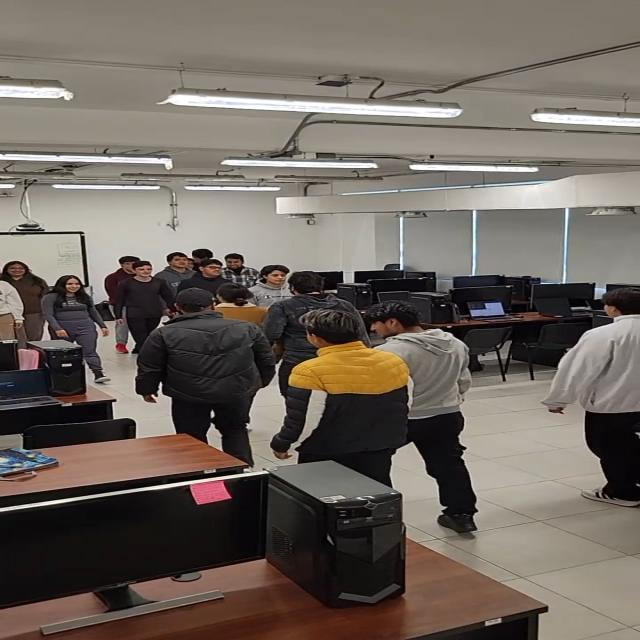Persona: (366, 300, 493, 542), (276, 311, 400, 515), (137, 292, 263, 459), (554, 283, 640, 510), (44, 273, 106, 381), (2, 258, 50, 339), (115, 259, 164, 327)
